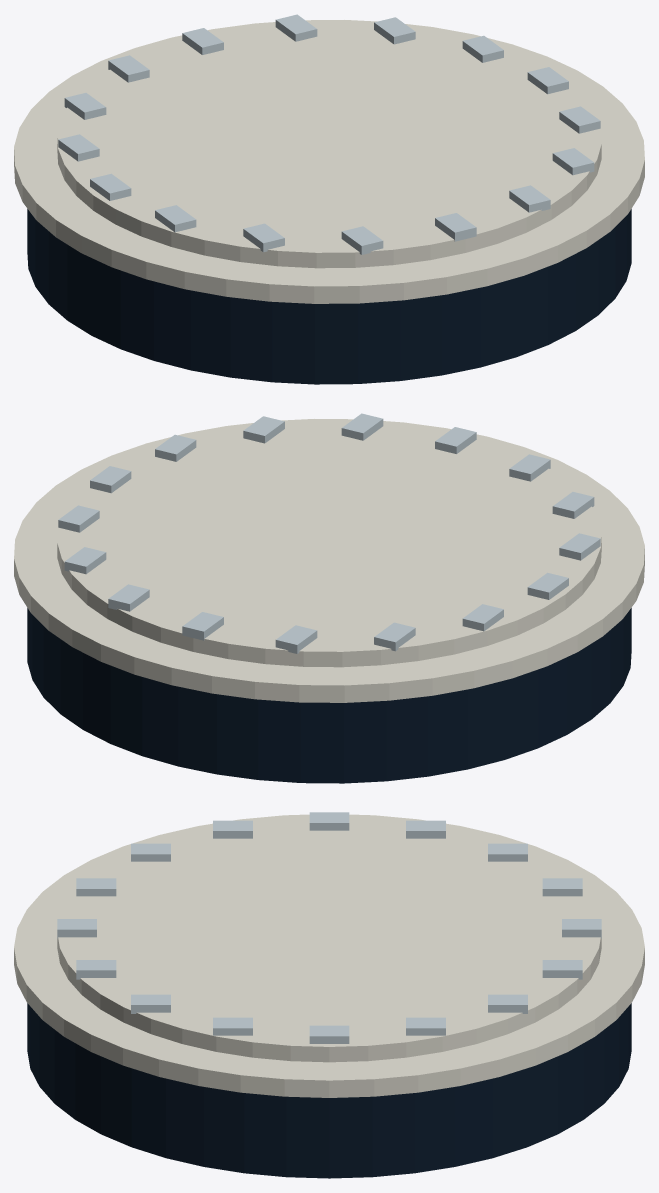
The model's file is 22_L75_ElectrostaticWaferHoldingChuck.fbx.
The picture shows the model from 3 angles, top to bottom: view 1: azimuth 30°, elevation 25°; view 2: azimuth 150°, elevation 25°; view 3: azimuth 270°, elevation 25°; orthographic projection.
Parts seen in each view (by area): view 1: ElectrostaticWaferHoldingChuck_Part_0002, ElectrostaticWaferHoldingChuck_Part_0000, ElectrostaticWaferHoldingChuck_Part_0001, ElectrostaticWaferHoldingChuck_Part_0007, ElectrostaticWaferHoldingChuck_Part_0008, ElectrostaticWaferHoldingChuck_Part_0005, ElectrostaticWaferHoldingChuck_Part_0006, ElectrostaticWaferHoldingChuck_Part_0009, ElectrostaticWaferHoldingChuck_Part_0013, ElectrostaticWaferHoldingChuck_Part_0016, ElectrostaticWaferHoldingChuck_Part_0014, ElectrostaticWaferHoldingChuck_Part_0012 (+7 smaller); view 2: ElectrostaticWaferHoldingChuck_Part_0002, ElectrostaticWaferHoldingChuck_Part_0000, ElectrostaticWaferHoldingChuck_Part_0001, ElectrostaticWaferHoldingChuck_Part_0015, ElectrostaticWaferHoldingChuck_Part_0014, ElectrostaticWaferHoldingChuck_Part_0017, ElectrostaticWaferHoldingChuck_Part_0016, ElectrostaticWaferHoldingChuck_Part_0013, ElectrostaticWaferHoldingChuck_Part_0009, ElectrostaticWaferHoldingChuck_Part_0006, ElectrostaticWaferHoldingChuck_Part_0008, ElectrostaticWaferHoldingChuck_Part_0010 (+7 smaller); view 3: ElectrostaticWaferHoldingChuck_Part_0002, ElectrostaticWaferHoldingChuck_Part_0000, ElectrostaticWaferHoldingChuck_Part_0001, ElectrostaticWaferHoldingChuck_Part_0011, ElectrostaticWaferHoldingChuck_Part_0008, ElectrostaticWaferHoldingChuck_Part_0014, ElectrostaticWaferHoldingChuck_Part_0003, ElectrostaticWaferHoldingChuck_Part_0005, ElectrostaticWaferHoldingChuck_Part_0017, ElectrostaticWaferHoldingChuck_Part_0007, ElectrostaticWaferHoldingChuck_Part_0015, ElectrostaticWaferHoldingChuck_Part_0004 (+7 smaller).
Part boxes in pixels (left/top/right/bottom): ElectrostaticWaferHoldingChuck_Part_0002: left=57, top=22, right=601, bottom=268; ElectrostaticWaferHoldingChuck_Part_0000: left=27, top=209, right=631, bottom=384; ElectrostaticWaferHoldingChuck_Part_0001: left=14, top=20, right=644, bottom=303; ElectrostaticWaferHoldingChuck_Part_0007: left=435, top=213, right=476, bottom=241; ElectrostaticWaferHoldingChuck_Part_0008: left=341, top=226, right=383, bottom=254; ElectrostaticWaferHoldingChuck_Part_0005: left=552, top=148, right=594, bottom=175; ElectrostaticWaferHoldingChuck_Part_0006: left=509, top=185, right=550, bottom=212; ElectrostaticWaferHoldingChuck_Part_0009: left=243, top=223, right=284, bottom=252; ElectrostaticWaferHoldingChuck_Part_0013: left=64, top=93, right=106, bottom=119; ElectrostaticWaferHoldingChuck_Part_0016: left=275, top=14, right=317, bottom=41; ElectrostaticWaferHoldingChuck_Part_0014: left=108, top=55, right=149, bottom=82; ElectrostaticWaferHoldingChuck_Part_0012: left=58, top=134, right=99, bottom=161; ElectrostaticWaferHoldingChuck_Part_0002: left=57, top=421, right=601, bottom=667; ElectrostaticWaferHoldingChuck_Part_0000: left=27, top=608, right=631, bottom=783; ElectrostaticWaferHoldingChuck_Part_0001: left=14, top=419, right=644, bottom=702; ElectrostaticWaferHoldingChuck_Part_0015: left=182, top=612, right=223, bottom=640; ElectrostaticWaferHoldingChuck_Part_0014: left=275, top=625, right=317, bottom=653; ElectrostaticWaferHoldingChuck_Part_0017: left=64, top=547, right=106, bottom=574; ElectrostaticWaferHoldingChuck_Part_0016: left=108, top=584, right=149, bottom=611; ElectrostaticWaferHoldingChuck_Part_0013: left=374, top=622, right=415, bottom=651; ElectrostaticWaferHoldingChuck_Part_0009: left=552, top=492, right=594, bottom=518; ElectrostaticWaferHoldingChuck_Part_0006: left=341, top=413, right=383, bottom=440; ElectrostaticWaferHoldingChuck_Part_0008: left=509, top=454, right=550, bottom=481; ElectrostaticWaferHoldingChuck_Part_0010: left=559, top=533, right=600, bottom=560; ElectrostaticWaferHoldingChuck_Part_0002: left=57, top=817, right=601, bottom=1062; ElectrostaticWaferHoldingChuck_Part_0000: left=27, top=1003, right=631, bottom=1178; ElectrostaticWaferHoldingChuck_Part_0001: left=14, top=814, right=644, bottom=1097; ElectrostaticWaferHoldingChuck_Part_0011: left=309, top=812, right=349, bottom=830; ElectrostaticWaferHoldingChuck_Part_0008: left=76, top=878, right=116, bottom=896; ElectrostaticWaferHoldingChuck_Part_0014: left=542, top=878, right=582, bottom=896; ElectrostaticWaferHoldingChuck_Part_0003: left=309, top=1025, right=349, bottom=1043; ElectrostaticWaferHoldingChuck_Part_0005: left=131, top=994, right=170, bottom=1013; ElectrostaticWaferHoldingChuck_Part_0017: left=488, top=994, right=527, bottom=1013; ElectrostaticWaferHoldingChuck_Part_0007: left=57, top=919, right=96, bottom=938; ElectrostaticWaferHoldingChuck_Part_0015: left=562, top=919, right=601, bottom=938; ElectrostaticWaferHoldingChuck_Part_0004: left=213, top=1017, right=252, bottom=1035.
Bounding box in the file's own units: 190 × 42 × 190.
